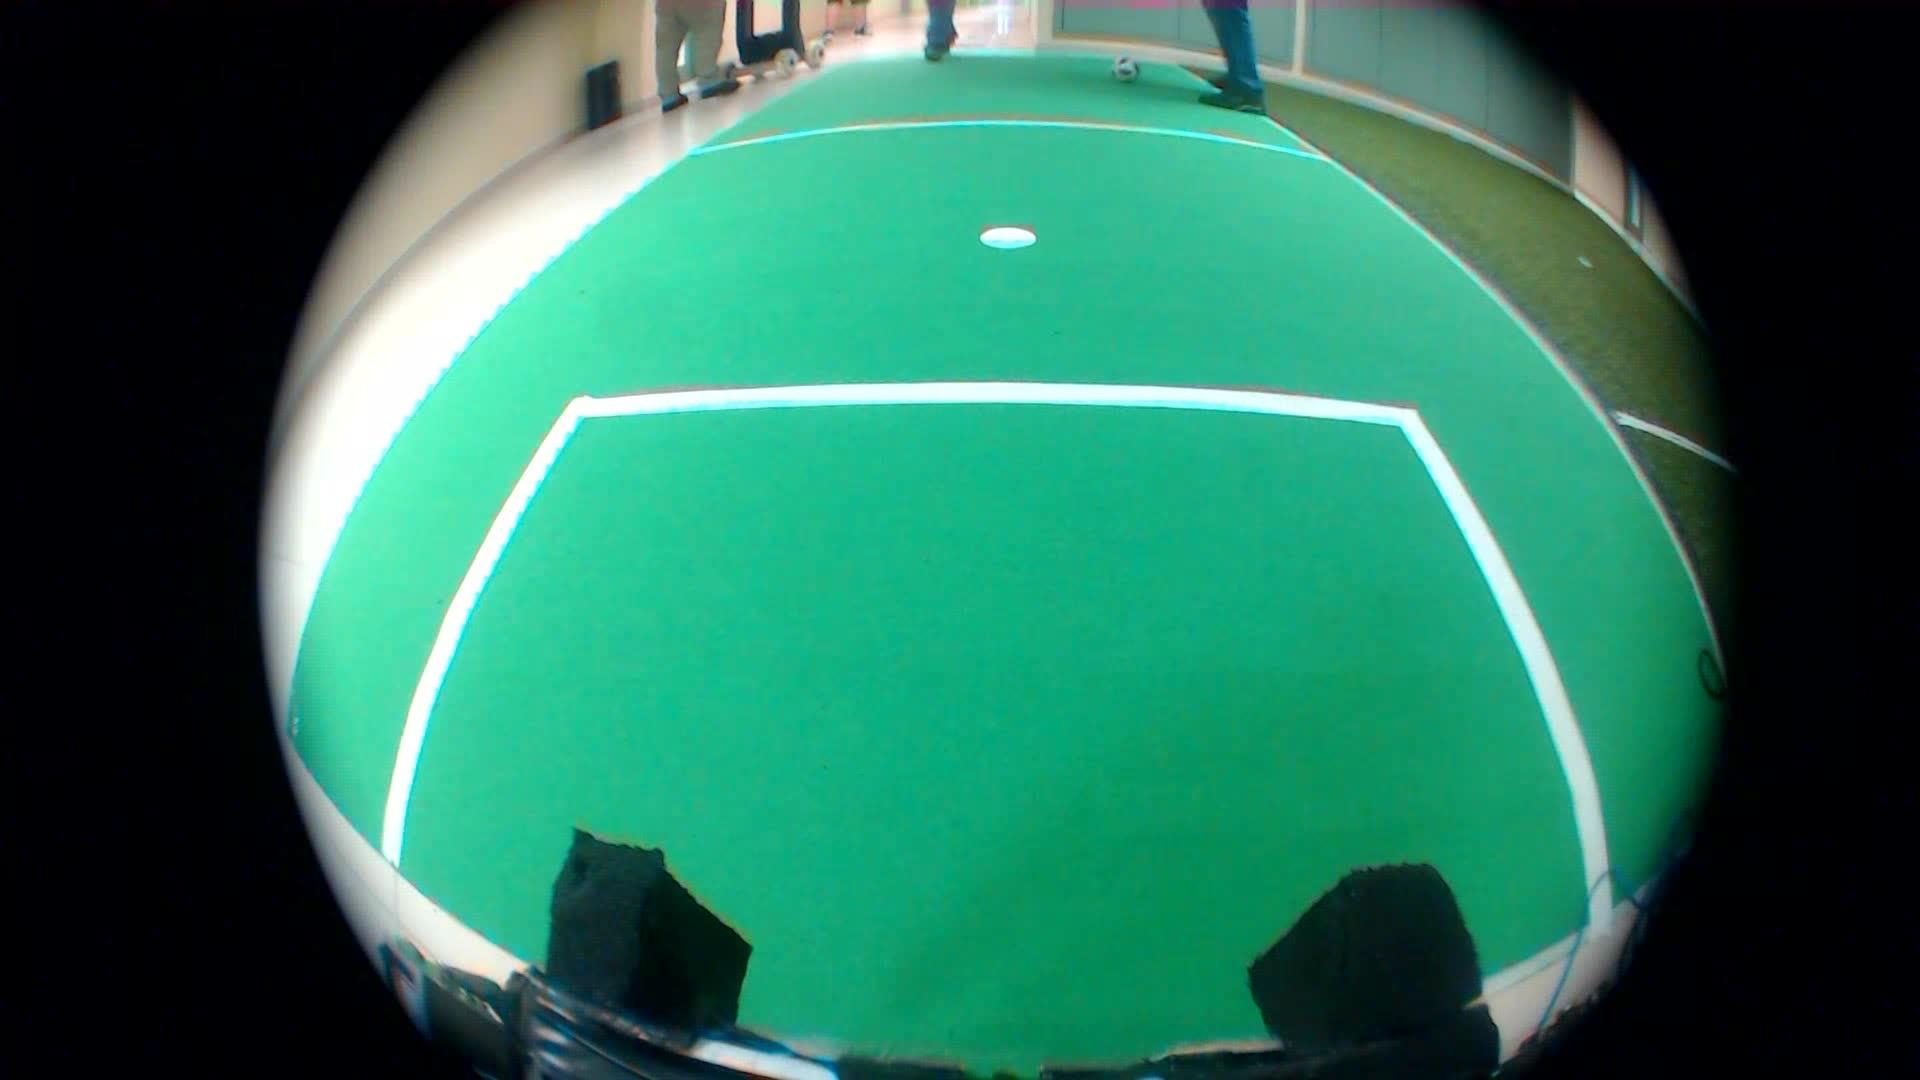ball: (1112, 40, 1145, 87)
